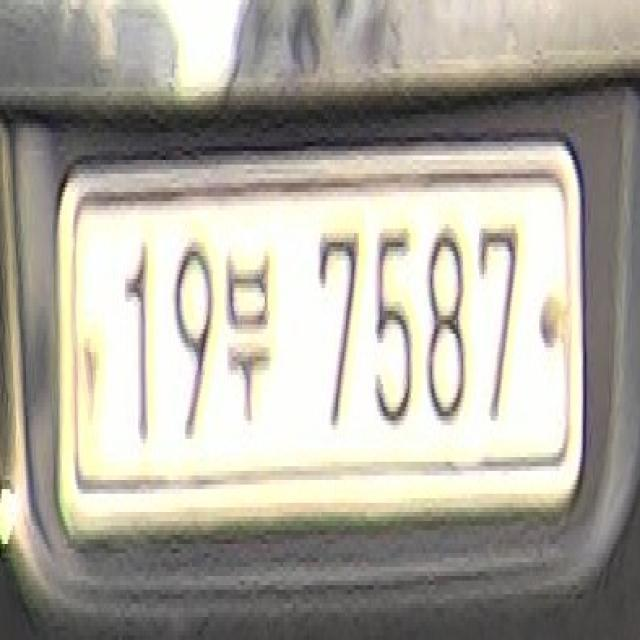plat: (53, 133, 585, 532)
